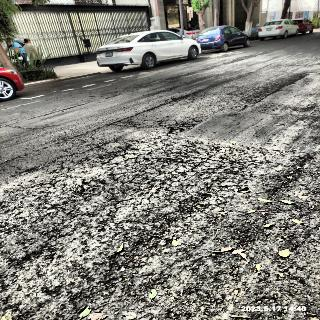alligator-crack: (30, 142, 274, 312)
